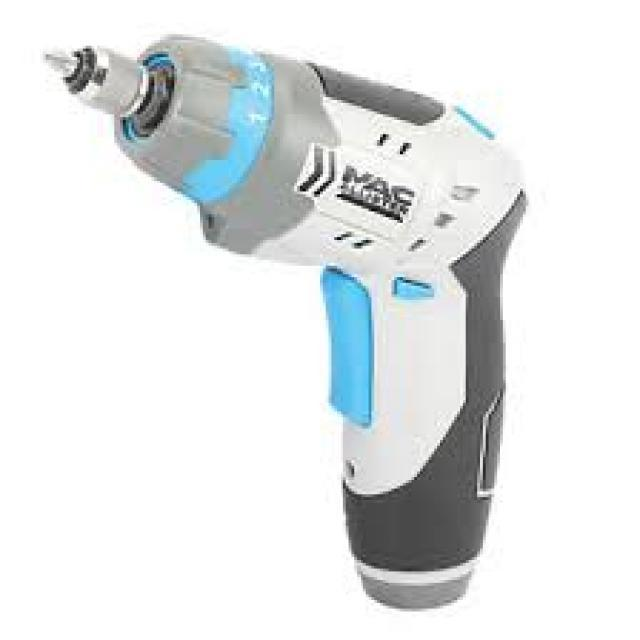drill: (41, 5, 545, 628)
